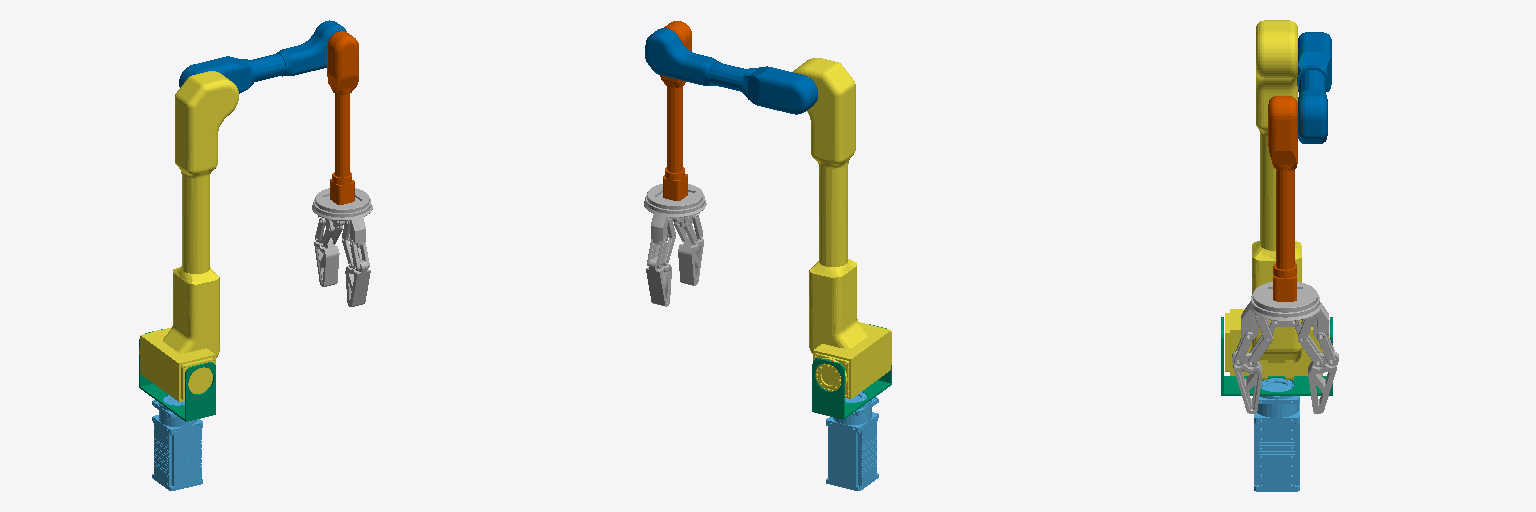
The robot description file, URDF, robot "manipulator":
<?xml version="1.0" encoding="utf-8"?>
<!-- This URDF was automatically created by SolidWorks to URDF Exporter! Originally created by [author] ([email redacted]) 
     Commit Version: 1.6.0-4-g7f85cfe  Build Version: 1.6.7995.38578
     For more information, please see http://wiki.ros.org/sw_urdf_exporter -->
<robot name="manipulator" xmlns:xacro="http://www.ros.org/wiki/xacro">
  <link name="dummy">
  </link>
  <link name="base_link">
    <inertial>
      <origin
        xyz="-4.43534381974301E-11 6.3874360537372E-06 0.0608318718443315"
        rpy="0 0 0" />
      <mass
        value="0.901754400125391" />
      <inertia
        ixx="0.00134333075969583"
        ixy="-1.03214972671229E-12"
        ixz="-3.11242845426686E-13"
        iyy="0.00134165896356921"
        iyz="1.82804851288322E-07"
        izz="0.0003957749723169" />
    </inertial>
    <visual>
      <origin
        xyz="0 0 0"
        rpy="0 0 0" />
      <geometry>
        <mesh
          filename="package://moveit2_tutorials/meshes/base_link.STL" />
      </geometry>
    </visual>
    <collision>
      <origin
        xyz="0 0 0"
        rpy="0 0 0" />
      <geometry>
        <mesh
          filename="package://moveit2_tutorials/meshes/base_link.STL" />
      </geometry>
    </collision>
  </link>
  <joint name="dummy_joint" type="fixed">
    <origin
      xyz="0 0 0"
      rpy="0 0 0" />
    <parent
      link="dummy" />
    <child
      link="base_link" />
    <axis
      xyz="0 0 1" />
  </joint>
  <link name="Link1">
    <inertial>
      <origin
        xyz="-4.26778861110654E-18 -3.53868553111064E-17 0.141781470011642"
        rpy="0 0 0" />
      <mass
        value="0.0310734965539791" />
      <inertia
        ixx="0.000109331940362837"
        ixy="-5.27327640502556E-21"
        ixz="3.32350651602314E-20"
        iyy="2.44529935466656E-05"
        iyz="2.08692047610847E-20"
        izz="0.000100110775350328" />
    </inertial>
    <visual>
      <origin
        xyz="0 0 0"
        rpy="0 0 0" />
      <geometry>
        <mesh
          filename="package://moveit2_tutorials/meshes/Link1.STL" />
      </geometry>
    </visual>
    <collision>
      <origin
        xyz="0 0 0"
        rpy="0 0 0" />
      <geometry>
        <mesh
          filename="package://moveit2_tutorials/meshes/Link1.STL" />
      </geometry>
    </collision>
  </link>
  <joint name="joint1"
    type="revolute">
    <origin
      xyz="0 0 0"
      rpy="0 0 0" />
    <parent
      link="base_link" />
    <child
      link="Link1" />
    <axis
      xyz="0 0 -1" />
    <limit
      lower="-3.14"
      upper="3.14"
      effort="70"
      velocity="5" />
  </joint>
  <link  name="LInk2">
    <inertial>
      <origin
        xyz="0.0122781320399895 -0.000104752369101082 0.0982877273061235"
        rpy="0 0 0" />
      <mass
        value="1.44770933157328" />
      <inertia
        ixx="0.00615415183111069"
        ixy="1.84168916330778E-07"
        ixz="-0.000370119381286804"
        iyy="0.00529164961491153"
        iyz="-8.94161249242903E-09"
        izz="0.00182634876318241" />
    </inertial>
    <visual>
      <origin
        xyz="0 0 0"
        rpy="0 0 0" />
      <geometry>
        <mesh
          filename="package://moveit2_tutorials/meshes/LInk2.STL" />
      </geometry>
    </visual>
    <collision>
      <origin
        xyz="0 0 0"
        rpy="0 0 0" />
      <geometry>
        <mesh
          filename="package://moveit2_tutorials/meshes/LInk2.STL" />
      </geometry>
    </collision>
  </link>
  <joint name="joint2"
    type="revolute">
    <origin
      xyz="0 0 0.182"
      rpy="0 0 0" />
    <parent
      link="Link1" />
    <child
      link="LInk2" />
    <axis
      xyz="0 -1 0" />
    <limit
      lower="-1.57"
      upper="1.57"
      effort="50"
      velocity="3" />
  </joint>
  <link name="LInk3">
    <inertial>
      <origin
        xyz="0.10503 0.043487 0.0028697"
        rpy="0 0 0" />
      <mass
        value="0.37969" />
      <inertia
        ixx="0.00010123"
        ixy="2.0616E-05"
        ixz="-1.6457E-05"
        iyy="0.0014812"
        iyz="4.2674E-10"
        izz="0.0014587" />
    </inertial>
    <visual>
      <origin
        xyz="0 0 0"
        rpy="0 0 0" />
      <geometry>
        <mesh
          filename="package://moveit2_tutorials/meshes/LInk3.STL" />
      </geometry>
    </visual>
    <collision>
      <origin
        xyz="0 0 0"
        rpy="0 0 0" />
      <geometry>
        <mesh
          filename="package://moveit2_tutorials/meshes/LInk3.STL" />
      </geometry>
    </collision>
  </link>
  <joint name="joint3"
    type="revolute">
    <origin
      xyz="0.06 0 0.40557"
      rpy="0 0 0" />
    <parent
      link="LInk2" />
    <child
      link="LInk3" />
    <axis
      xyz="0 1 0" />
    <limit
      lower="-1.57"
      upper="0.78"
      effort="20"
      velocity="3" />
  </joint>
  <link name="LInk4">
    <inertial>
      <origin
        xyz="-3.06640574598838E-08 0.00881851842233967 -0.0862289142926684"
        rpy="0 0 0" />
      <mass
        value="0.180487502777466" />
      <inertia
        ixx="0.000626138656646792"
        ixy="5.17265236716281E-11"
        ixz="1.58940551565883E-10"
        iyy="0.00062784576393968"
        iyz="9.882599063257E-06"
        izz="2.65391491399756E-05" />
    </inertial>
    <visual>
      <origin
        xyz="0 0 0"
        rpy="0 0 0" />
      <geometry>
        <mesh
          filename="package://moveit2_tutorials/meshes/LInk4.STL" />
      </geometry>
    </visual>
    <collision>
      <origin
        xyz="0 0 0"
        rpy="0 0 0" />
      <geometry>
        <mesh
          filename="package://moveit2_tutorials/meshes/LInk4.STL" />
      </geometry>
    </collision>
  </link>
  <joint name="joint4"
    type="revolute">
    <origin
      xyz="0.21447 0 0.0225"
      rpy="0 0 0" />
    <parent
      link="LInk3" />
    <child
      link="LInk4" />
    <axis
      xyz="0 -1 0" />
    <limit
      lower="-0.78"
      upper="1.57"
      effort="20"
      velocity="3" />
  </joint>
  <link name="LInk5">
    <inertial>
      <origin
        xyz="3.18477047716037E-05 2.64181112248144E-05 -0.0469518441849525"
        rpy="0 0 0" />
      <mass
        value="0.487997839859057" />
      <inertia
        ixx="0.000327487524270192"
        ixy="1.79024496787708E-07"
        ixz="-5.08896187431773E-08"
        iyy="0.000208531381299029"
        iyz="2.38558323347539E-07"
        izz="0.000303862396052111" />
    </inertial>
    <visual>
      <origin
        xyz="0 0 0"
        rpy="0 0 0" />
      <geometry>
        <mesh
          filename="package://moveit2_tutorials/meshes/LInk5.STL" />
      </geometry>
      <material
        name="">
        <color
          rgba="0.752941176470588 0.752941176470588 0.752941176470588 1" />
      </material>
    </visual>
    <collision>
      <origin
        xyz="0 0 0"
        rpy="0 0 0" />
      <geometry>
        <mesh
          filename="package://moveit2_tutorials/meshes/LInk5.STL" />
      </geometry>
    </collision>
  </link>
  <joint name="joint5"
    type="revolute">
    <origin
      xyz="0 0.01 -0.24"
      rpy="0 0 0" />
    <parent
      link="LInk4" />
    <child
      link="LInk5" />
    <axis
      xyz="0 0 -1" />
    <limit
      lower="-3.14"
      upper="3.14"
      effort="20"
      velocity="3" />
  </joint>
</robot>

--- Render facts (derived) ---
The picture shows the robot from 3 angles, left to right: view 1: azimuth 30°, elevation 25°; view 2: azimuth 150°, elevation 25°; view 3: azimuth 270°, elevation 25°; orthographic projection.
Model manipulator with 7 links and 6 joints (5 revolute, 1 fixed), rooted at dummy, posed every joint at zero.
Links seen in each view (by area): view 1: LInk2, LInk5, LInk3, LInk4, base_link, Link1; view 2: LInk2, LInk3, LInk5, base_link, LInk4, Link1; view 3: LInk2, LInk5, LInk4, base_link, LInk3, Link1.
Boxes of the visible links, x1,y1,x2,y2 form: LInk2: (139,71,238,401); LInk5: (312,188,372,306); LInk3: (179,20,346,93); LInk4: (327,31,358,204); base_link: (152,395,202,490); Link1: (139,329,215,421); LInk2: (793,58,891,398); LInk3: (645,28,817,114); LInk5: (644,184,706,306); base_link: (826,392,878,490); LInk4: (660,21,691,200); Link1: (812,324,891,419); LInk2: (1225,20,1329,379); LInk5: (1232,282,1338,413); LInk4: (1268,96,1297,301); base_link: (1254,378,1299,491); LInk3: (1297,32,1331,143); Link1: (1221,317,1332,395).
Bounding box of the posed robot: 0.3475 × 0.1394 × 0.6326 m (x, y, z).
6 mesh visuals loaded from 6 distinct referenced files (6 binary STL).